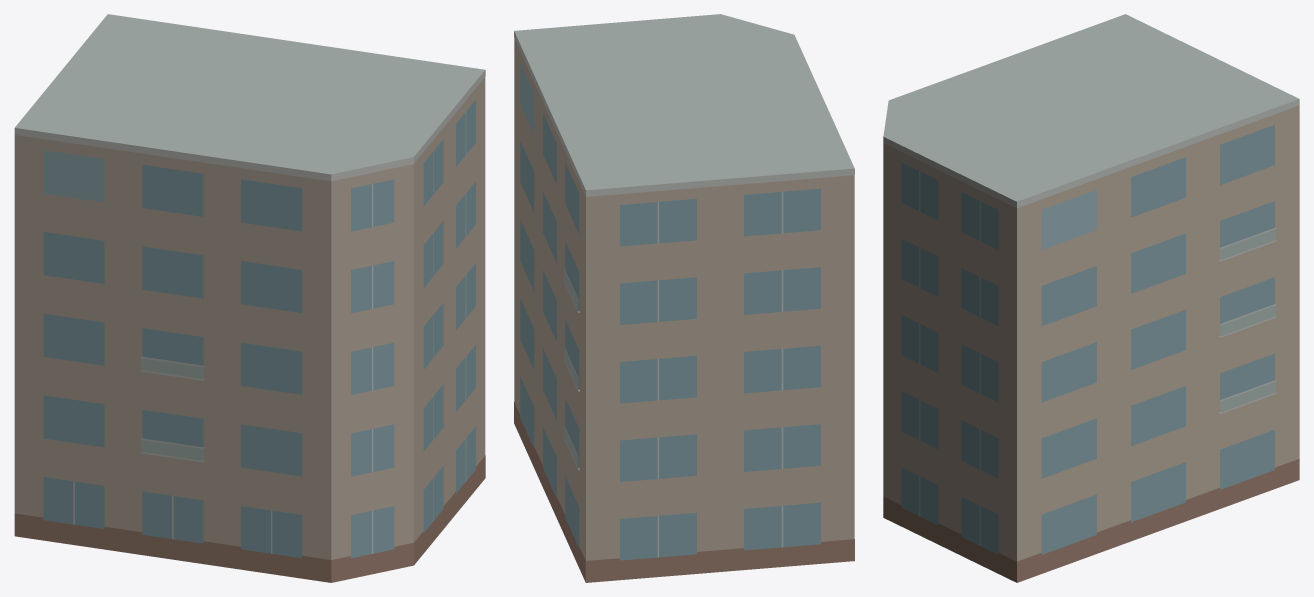
The model's file is survey-upis-32635196.glb.
The picture shows the model from 3 angles, left to right: view 1: azimuth 30°, elevation 25°; view 2: azimuth 150°, elevation 25°; view 3: azimuth 270°, elevation 25°; orthographic projection. The views are drawn at different scales.
Visible parts, largest first — view 1: survey-upis-32635196.tmp; view 2: survey-upis-32635196.tmp; view 3: survey-upis-32635196.tmp.
Boxes of the visible parts, box(x1,y1,x2,y2) form: survey-upis-32635196.tmp: box(14, 14, 485, 582); survey-upis-32635196.tmp: box(514, 14, 854, 582); survey-upis-32635196.tmp: box(883, 14, 1299, 582).
Size of the model in its own units: 15.29 by 14.45 by 14.32.
